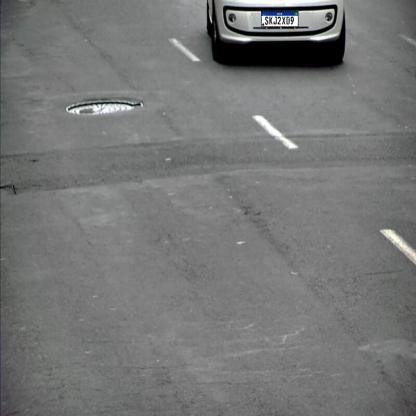PlacaM: (261, 11, 299, 27)
